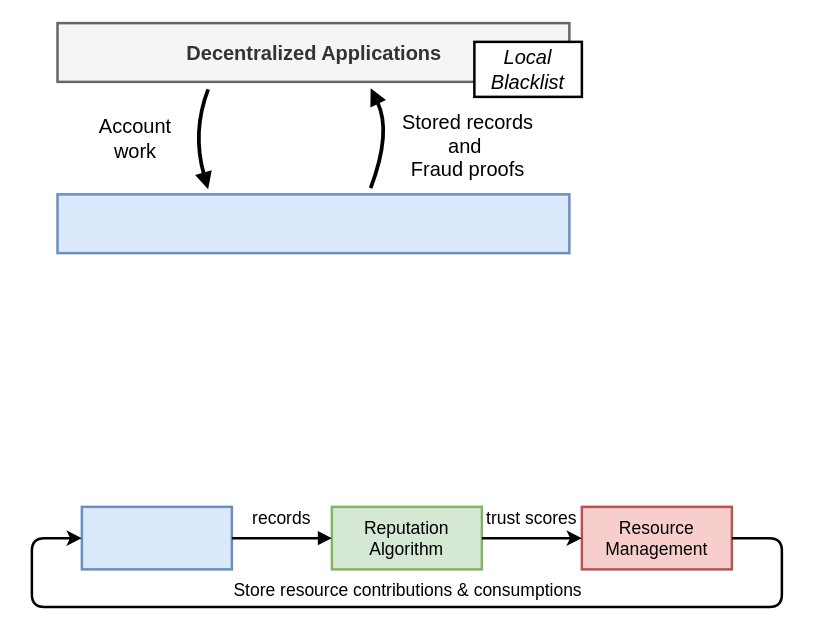
Some shapes in this 814 by 639 pixel diagram are drawn without their labels. The shapes that lost their labels are listed below. From the top down, each one's centre as x and y in pixels, then its label:
At (x=313, y=223): "ConTrib".
At (x=156, y=537): "Work Accounting (this work)".
